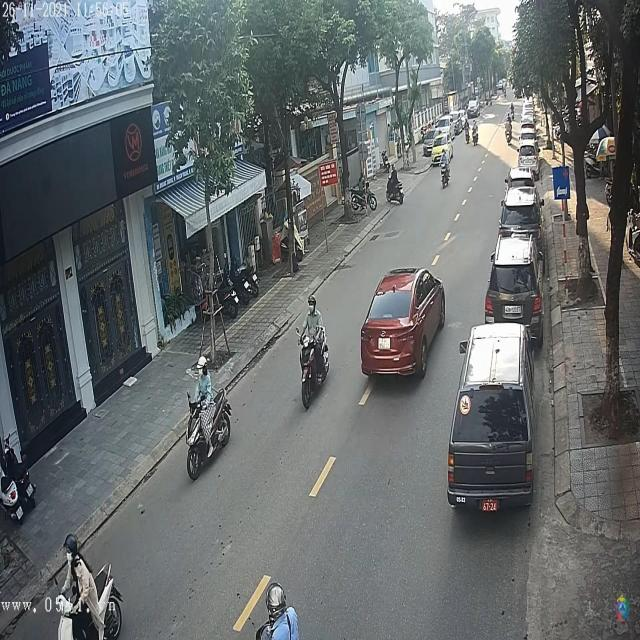car: (358, 266, 446, 377), (485, 238, 542, 330), (499, 191, 544, 239), (431, 134, 453, 166)
motorcycle: (184, 390, 234, 479), (297, 331, 331, 413), (385, 178, 405, 205), (440, 164, 452, 189)
truck: (449, 327, 535, 513)
